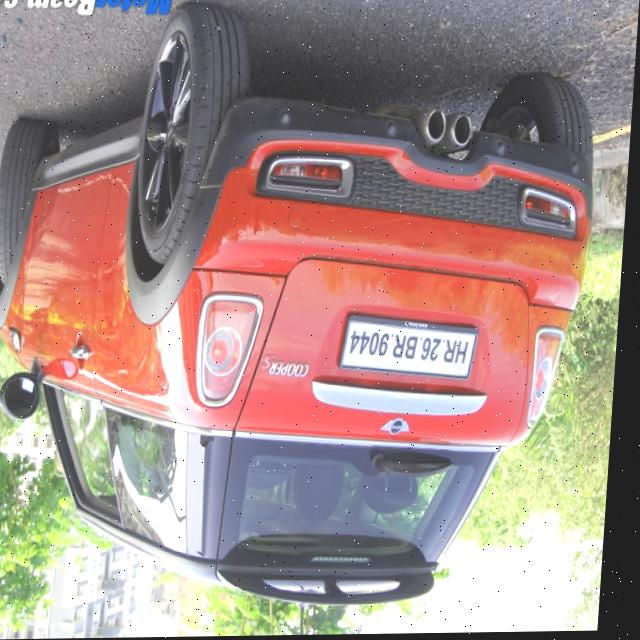plate: (341, 309, 487, 385)
